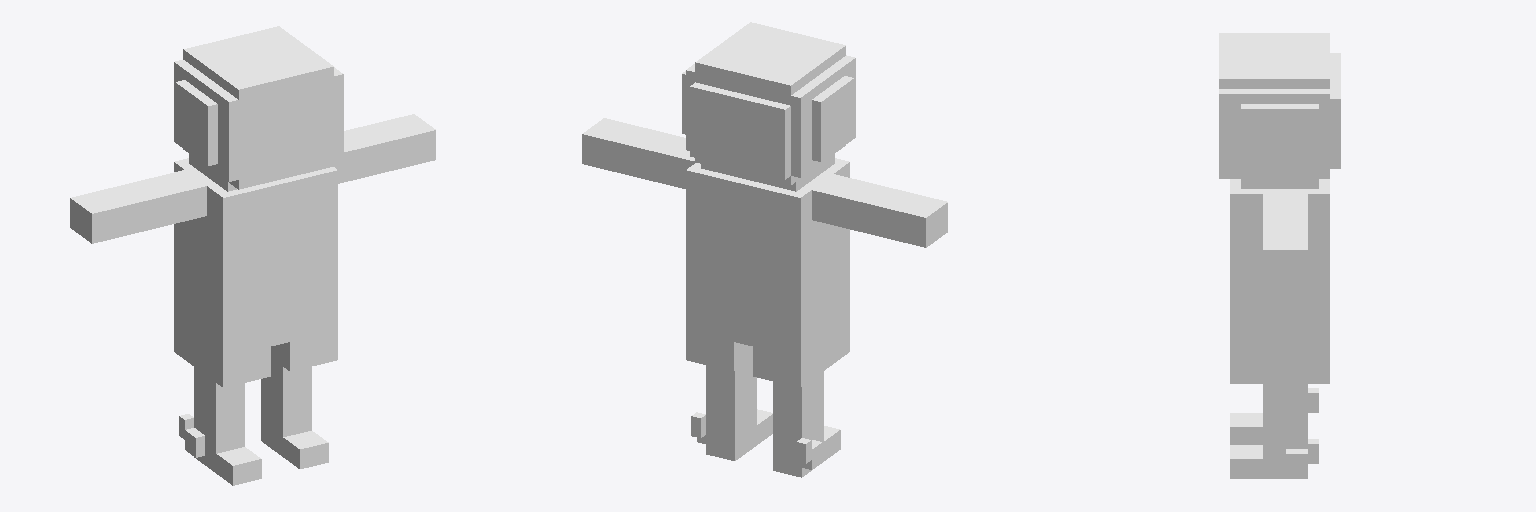
File: reboy.obj
3 renders of one model, left to right at view 1: azimuth 30°, elevation 25°; view 2: azimuth 150°, elevation 25°; view 3: azimuth 270°, elevation 25°, orthographic.
Parts seen in each view (by area): view 1: object 1; view 2: object 1; view 3: object 1.
Part boxes in pixels (x1,y1,x2,y2): object 1: (70,26,435,485); object 1: (582,22,947,477); object 1: (1219,33,1340,478).
Size of the model in its own units: 3.6 by 4 by 1.1.